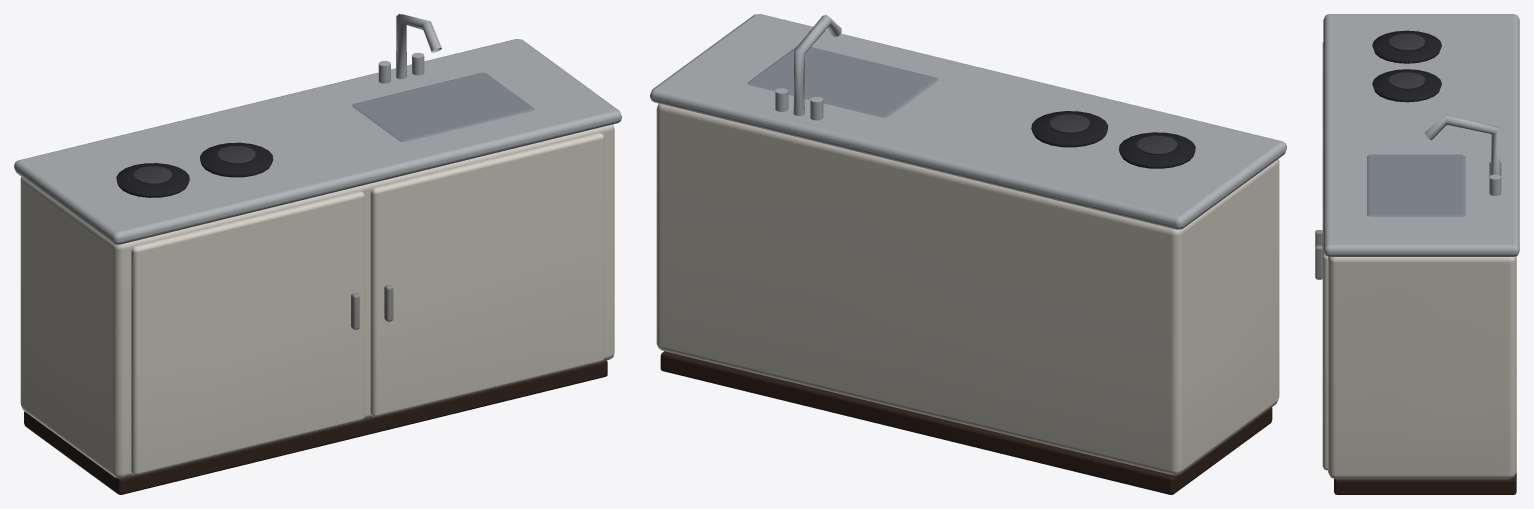
Rendered from furn_kitchenette.glb.
3 renders of one model, left to right at view 1: azimuth 30°, elevation 25°; view 2: azimuth 150°, elevation 25°; view 3: azimuth 270°, elevation 25°, orthographic. The views are drawn at different scales.
Parts seen in each view (by area): view 1: furn_kitchenette_main; view 2: furn_kitchenette_main; view 3: furn_kitchenette_main.
Boxes of the visible parts, left/top/right/bottom form: furn_kitchenette_main: left=14, top=14, right=621, bottom=494; furn_kitchenette_main: left=650, top=14, right=1286, bottom=494; furn_kitchenette_main: left=1315, top=14, right=1519, bottom=494.
Bounding box in the file's own units: 1.83 × 1.18 × 0.672.
